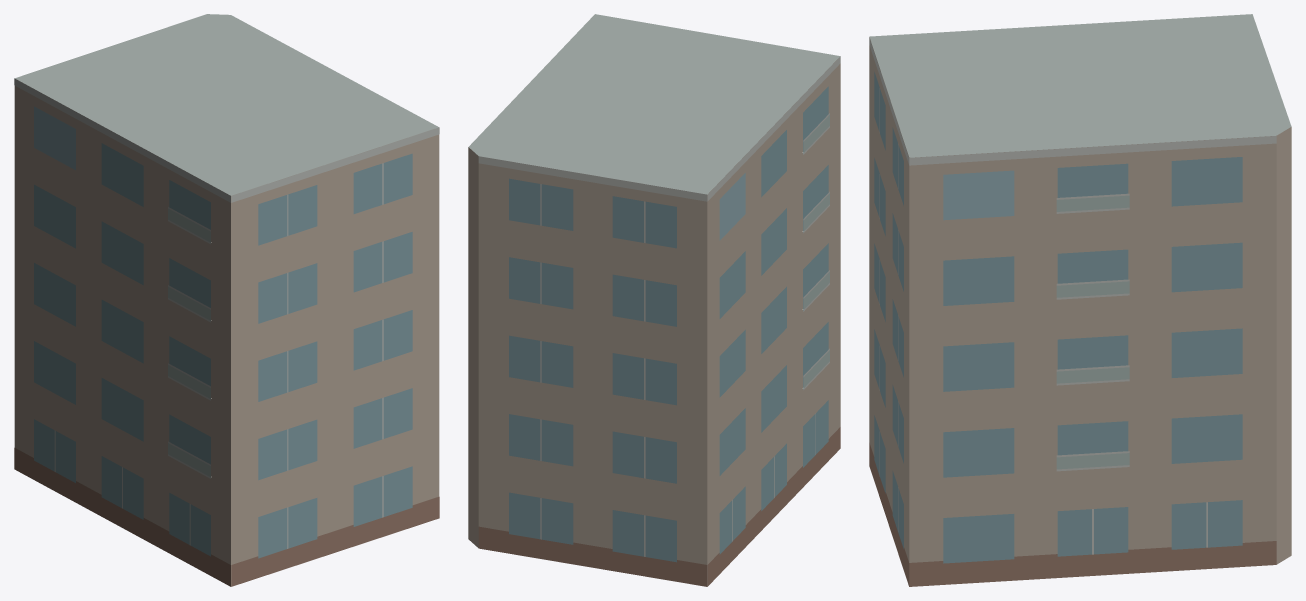
Rendered from survey-upis-32709187.glb.
3 renders of one model, left to right at view 1: azimuth 30°, elevation 25°; view 2: azimuth 150°, elevation 25°; view 3: azimuth 270°, elevation 25°, orthographic. The views are drawn at different scales.
Parts seen in each view (by area): view 1: survey-upis-32709187.tmp; view 2: survey-upis-32709187.tmp; view 3: survey-upis-32709187.tmp.
Part boxes in pixels (box(x1,y1,x2,y2)): survey-upis-32709187.tmp: box(14, 14, 439, 586); survey-upis-32709187.tmp: box(468, 14, 840, 586); survey-upis-32709187.tmp: box(869, 14, 1291, 586).
Bounding box in the file's own units: 9.64 × 13.4 × 11.96.
